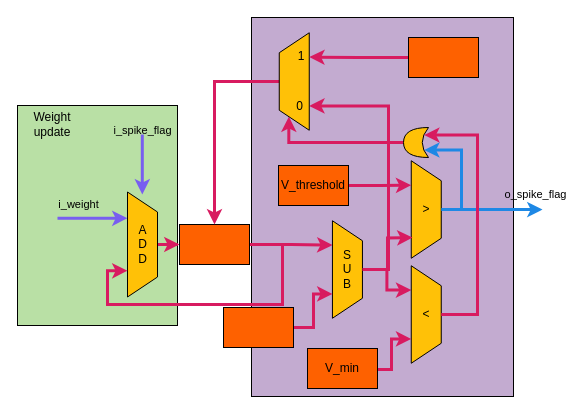
This 584x414 diagram has some shape labels left out. The shapes that lost their labels are listed below. From the top down, each one's centre as x and y in pixels, then its label:
(443,57): V_rest
(214,244): V_mem
(258,327): V_leak
